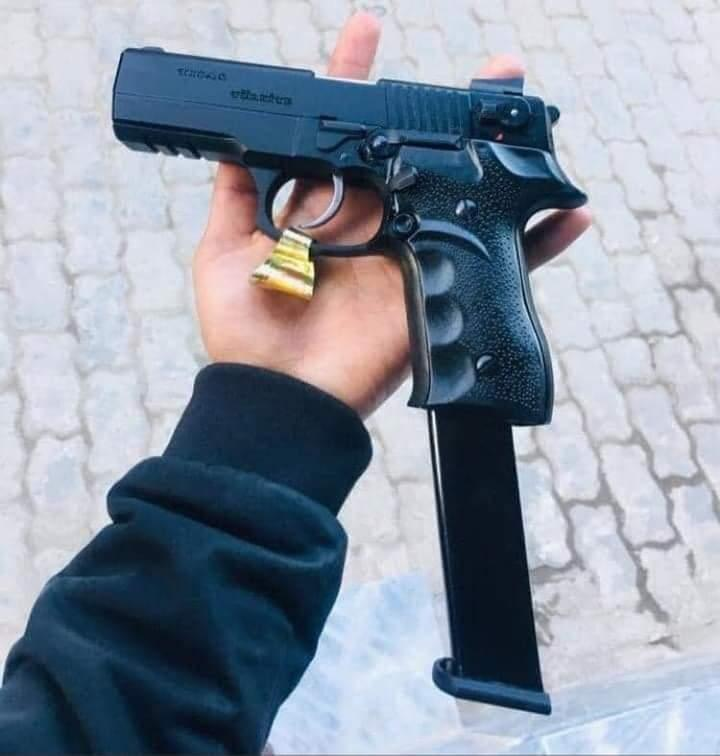weapon: (112, 45, 588, 715)
